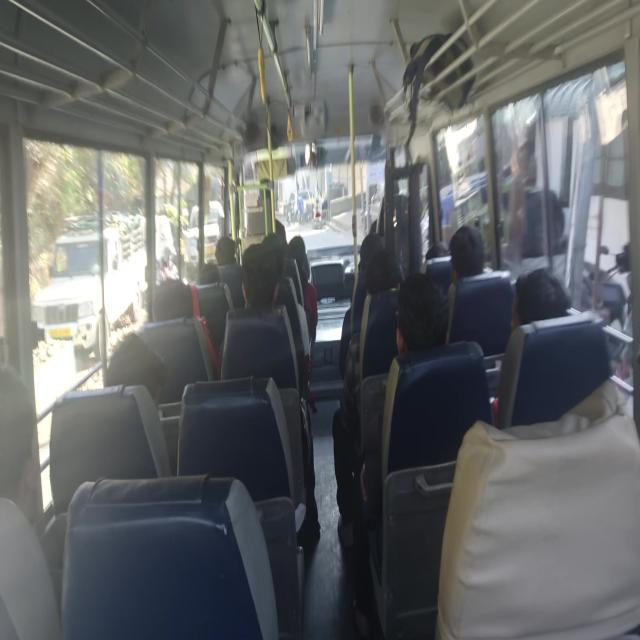person: (0, 374, 68, 520), (508, 259, 573, 340), (103, 327, 142, 418), (390, 286, 446, 344), (240, 243, 276, 322), (369, 253, 414, 313), (148, 272, 188, 328), (454, 220, 485, 276), (196, 243, 227, 295), (284, 234, 313, 286), (212, 226, 242, 273), (264, 233, 291, 280), (356, 228, 384, 268), (430, 238, 464, 257)
